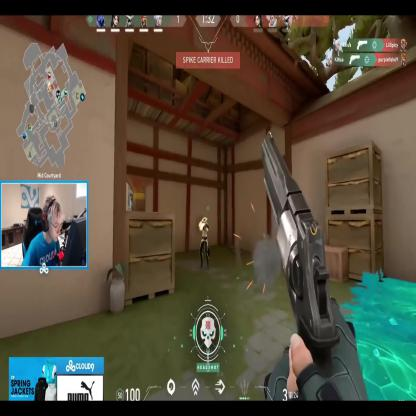enemy: (200, 215, 209, 272)
enemy_head: (203, 217, 207, 224)
